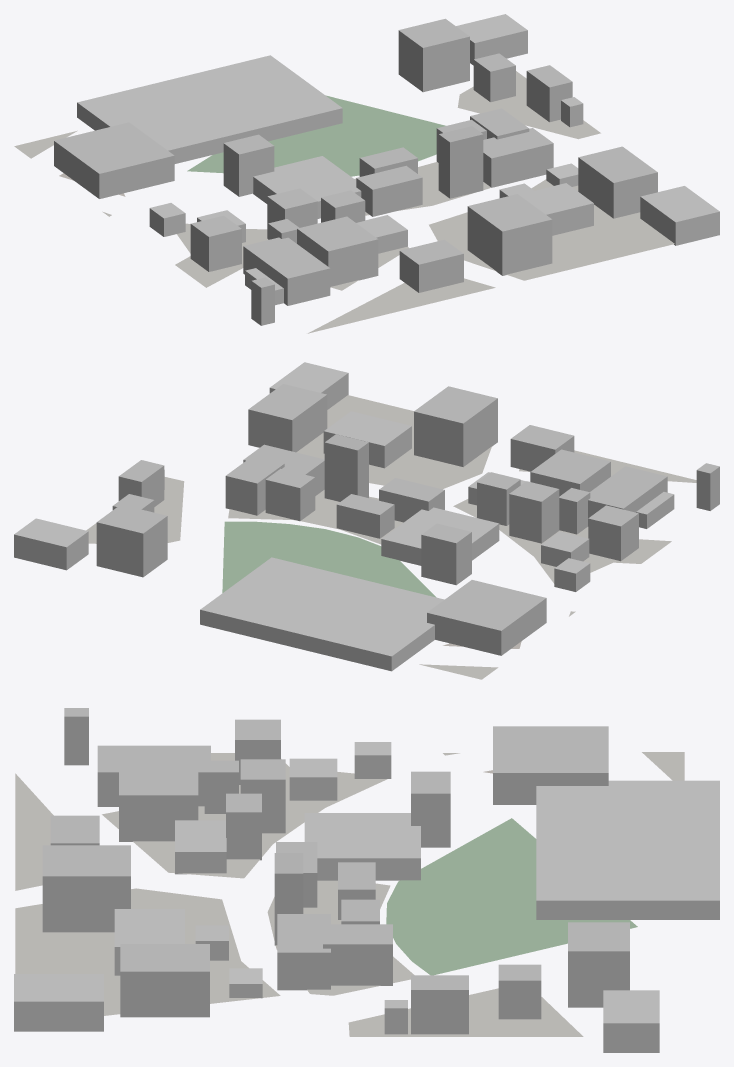
The model's file is 136_94_mid.glb.
3 views of the same model, one above another, from view 1: azimuth 30°, elevation 25°; view 2: azimuth 150°, elevation 25°; view 3: azimuth 270°, elevation 25° (orthographic). The views are drawn at different scales.
Bounding box in the file's own units: 529 × 61.37 × 527.
